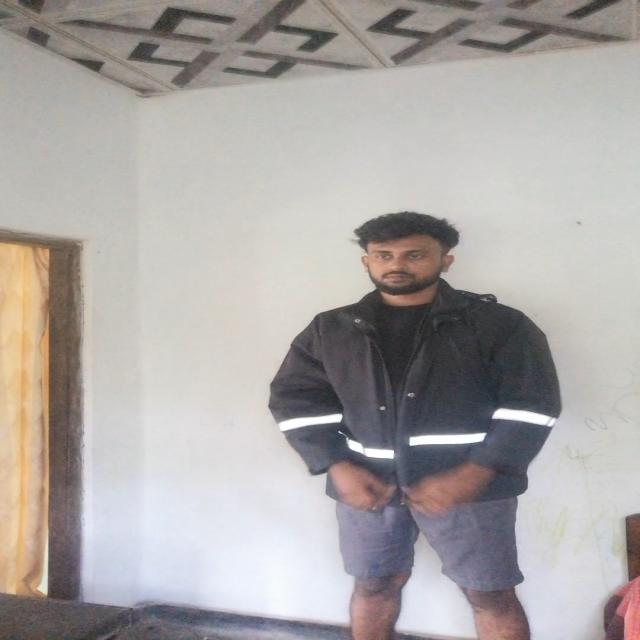Jacket_Wearer: (258, 291, 592, 501)
